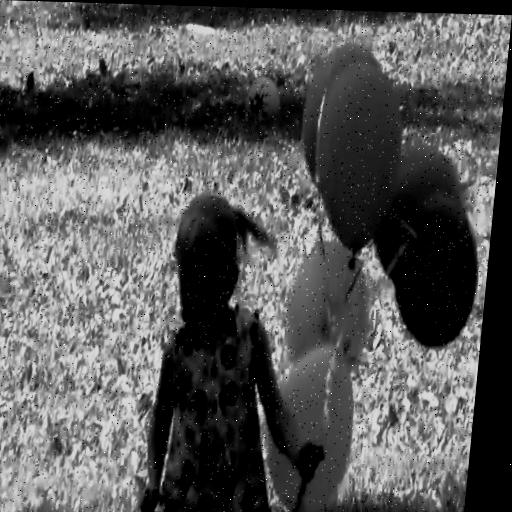balloon: (313, 70, 408, 252), (255, 344, 357, 512), (382, 196, 484, 348), (291, 46, 387, 186), (373, 144, 468, 276), (278, 245, 370, 373)
